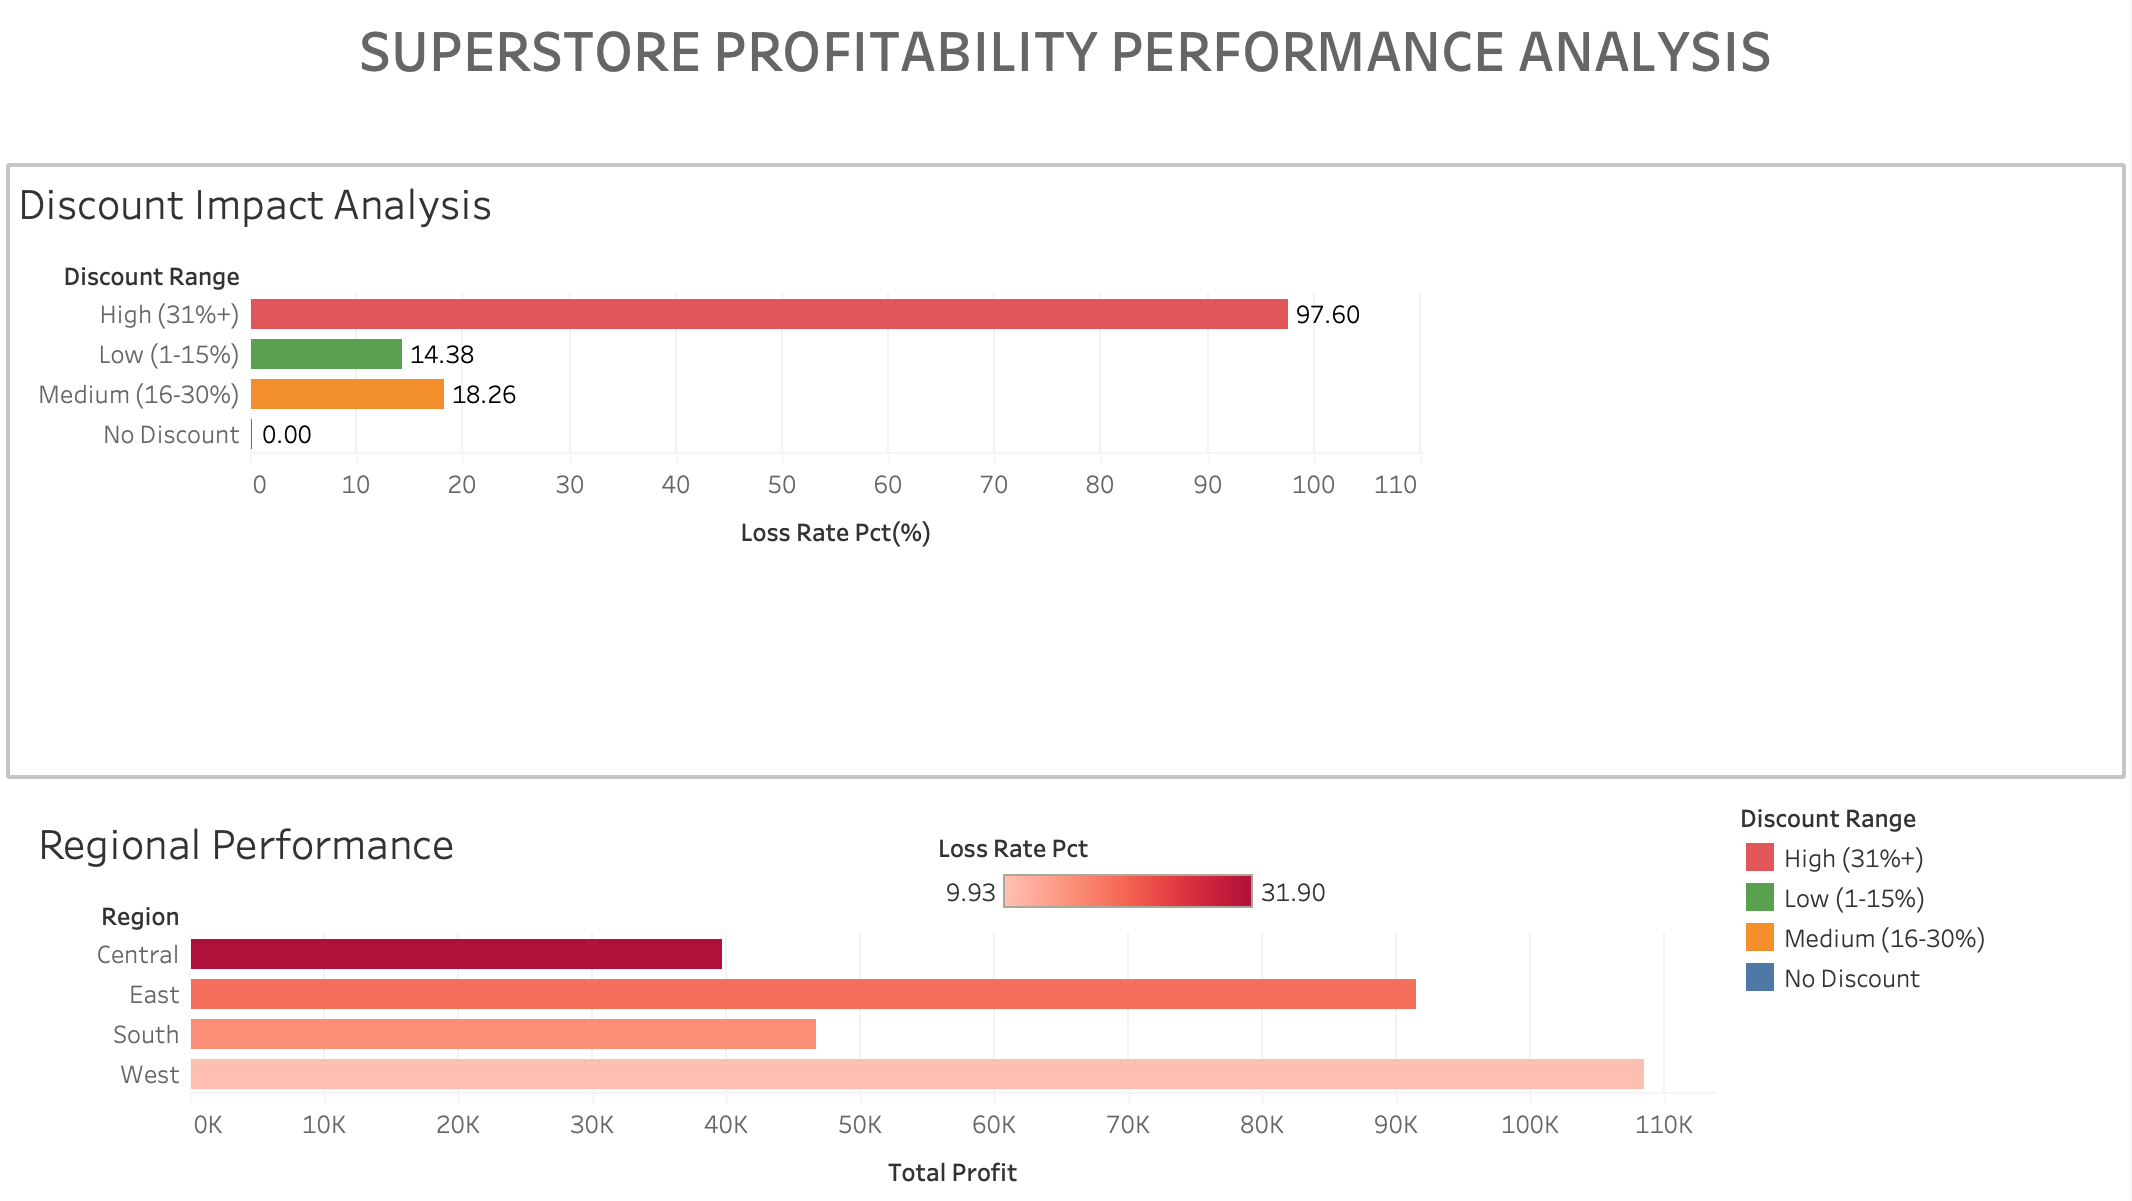

This screenshot's page, from the dashboard's own definition file:
{"tool":"tableau","page":{"name":"Dashboard 2","canvas":[1000,1000],"units":"permille","ordinal":1},"visuals":[{"type":"text","box":[2.8,15,996.3,131.7]},{"type":"worksheet","title":"Discount Impact Analysis","mark":"Automatic","rows":["discount_range"],"cols":["loss_rate_pct"],"box":[5.3,168.8,990.6,455.1]},{"type":"legend","title":"Discount Impact Analysis","param":"[federated.0n2t8gd0zph0qj1dym7ub1tdwizj].[none:discount_range:nk]","box":[817.1,643.2,182.9,209.4]},{"type":"worksheet","title":"Regional Performance","mark":"Automatic","rows":["region"],"cols":["total_profit"],"box":[15,648.2,790.5,333.8]},{"type":"legend","title":"Regional Performance","param":"[federated.1ukpfcb0m4lzp21c7874x1oy3fmu].[sum:loss_rate_pct:qk]","box":[440.6,666.2,187.1,77.8]}]}

Visuals, with their boxes on the dashboard's canvas, which has no fixed pixel size, in thousandths of its width and height (x1, y1, x2, y2). These are canvas units, not pixel positions in the 2132x1201 screenshot, which may show the page scaled, cropped or inside an application window:
text: <bbox>3, 15, 999, 147</bbox>
"Discount Impact Analysis" worksheet: <bbox>5, 169, 996, 624</bbox>
"Discount Impact Analysis" legend: <bbox>817, 643, 1000, 853</bbox>
"Regional Performance" worksheet: <bbox>15, 648, 806, 982</bbox>
"Regional Performance" legend: <bbox>441, 666, 628, 744</bbox>
